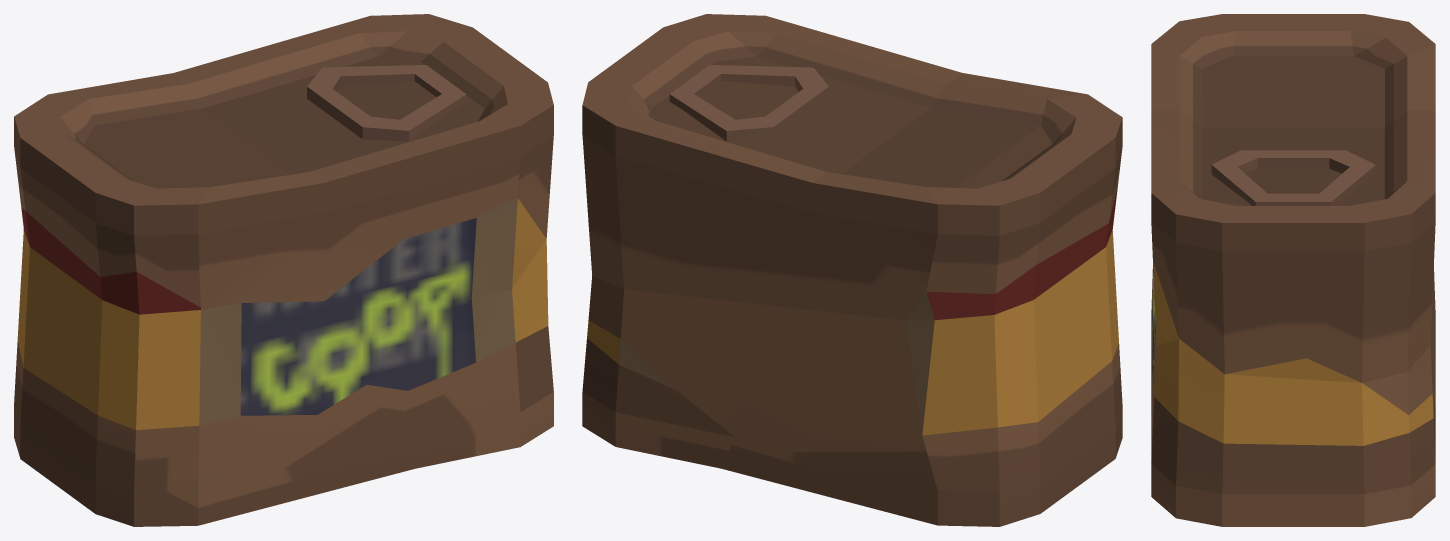
Rendered from SM_Prop_Food_Can_01.obj.
The picture shows the model from 3 angles, left to right: view 1: azimuth 30°, elevation 25°; view 2: azimuth 150°, elevation 25°; view 3: azimuth 270°, elevation 25°; orthographic projection. The views are drawn at different scales.
Visible parts, largest first — view 1: SM_Prop_Food_Can_01_0; view 2: SM_Prop_Food_Can_01_0; view 3: SM_Prop_Food_Can_01_0.
Boxes of the visible parts, x1,y1,x2,y2 form: SM_Prop_Food_Can_01_0: (14, 14, 553, 526); SM_Prop_Food_Can_01_0: (582, 14, 1122, 526); SM_Prop_Food_Can_01_0: (1151, 14, 1435, 526).
Size of the model in its own units: 0.1762 by 0.1196 by 0.1014.
1 material, 1 textured.
